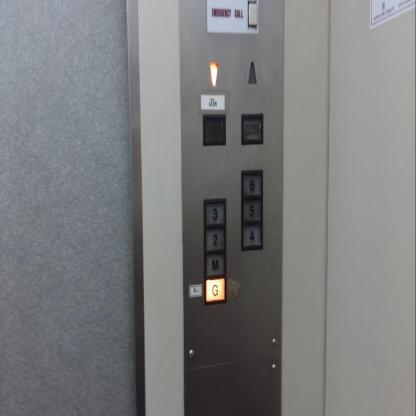2: (203, 226, 226, 252)
3: (203, 196, 226, 228)
4: (240, 221, 262, 251)
5: (240, 197, 262, 223)
6: (240, 168, 262, 198)
G: (204, 276, 226, 304)
M: (204, 251, 226, 277)
empty: (202, 113, 226, 146), (247, 1, 258, 29)
text: (241, 113, 263, 145)
